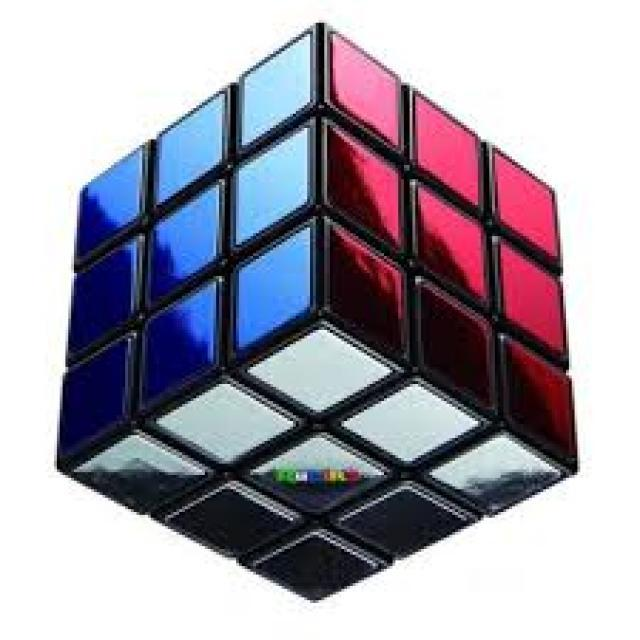Rub: (55, 20, 579, 602), (270, 466, 362, 486)
